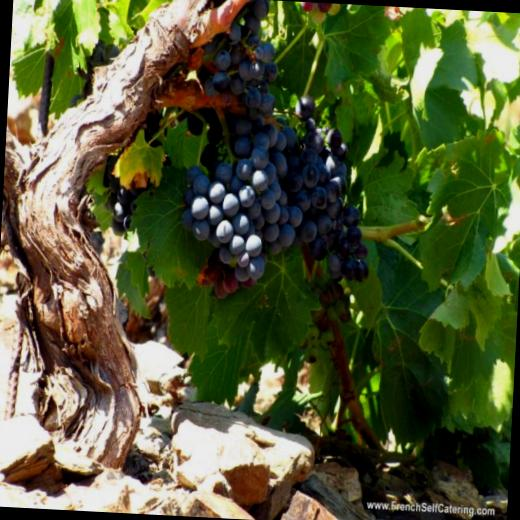Orange: (163, 0, 380, 367), (68, 38, 118, 112), (100, 161, 142, 235), (311, 6, 326, 23), (326, 3, 338, 15), (317, 2, 331, 12), (303, 2, 316, 12)
